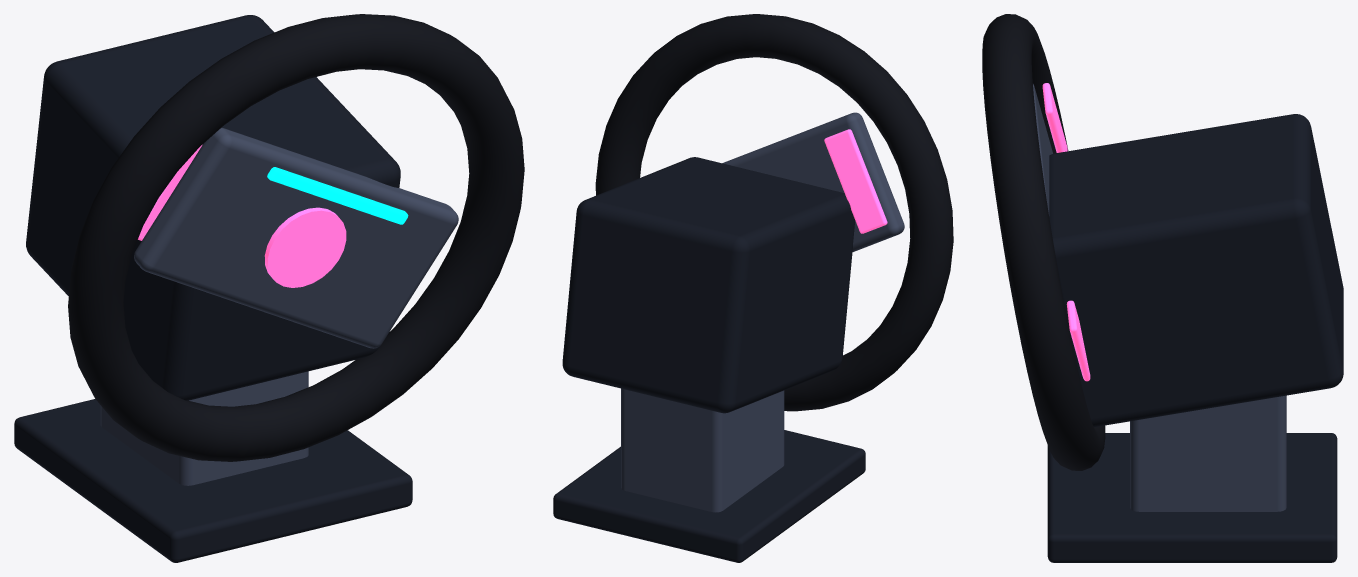
Rendered from atelier-gaming-wheel-cyber.glb.
3 renders of one model, left to right at view 1: azimuth 30°, elevation 25°; view 2: azimuth 150°, elevation 25°; view 3: azimuth 270°, elevation 25°, orthographic. The views are drawn at different scales.
Bounding box in the file's own units: 0.2954 × 0.3353 × 0.2309.
